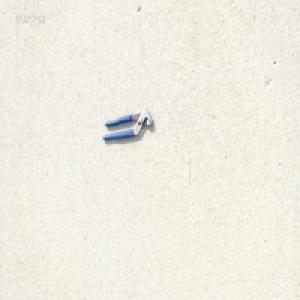Pliers: (102, 108, 154, 142)
